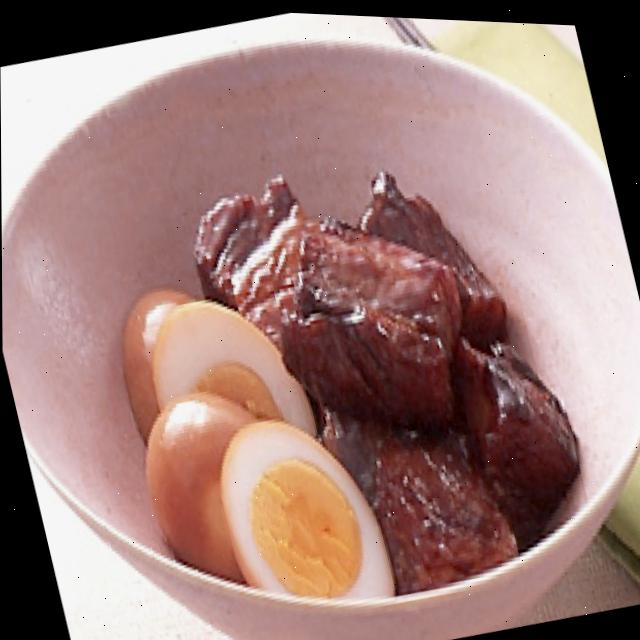猪肉菜式: (180, 177, 640, 640)
